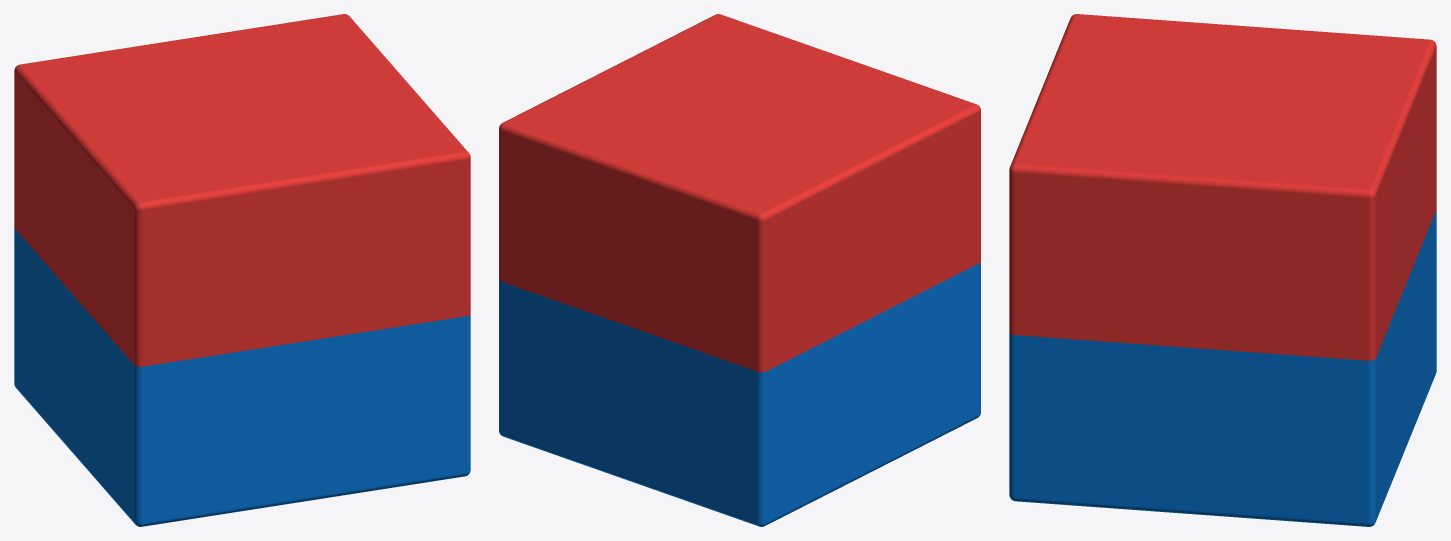
Rendered from magnet-cube.glb.
The picture shows the model from 3 angles, left to right: view 1: azimuth 30°, elevation 25°; view 2: azimuth 150°, elevation 25°; view 3: azimuth 270°, elevation 25°; orthographic projection. The views are drawn at different scales.
Visible parts, largest first — view 1: N-pole-teaching-red, S-pole-teaching-blue; view 2: N-pole-teaching-red, S-pole-teaching-blue; view 3: N-pole-teaching-red, S-pole-teaching-blue.
Boxes of the visible parts, x1,y1,x2,y2 form: N-pole-teaching-red: (14, 14, 470, 366); S-pole-teaching-blue: (14, 228, 470, 526); N-pole-teaching-red: (499, 14, 980, 372); S-pole-teaching-blue: (499, 262, 980, 526); N-pole-teaching-red: (1009, 14, 1436, 360); S-pole-teaching-blue: (1009, 209, 1436, 526).
Size of the model in its own units: 13.79 by 12 by 13.79.
